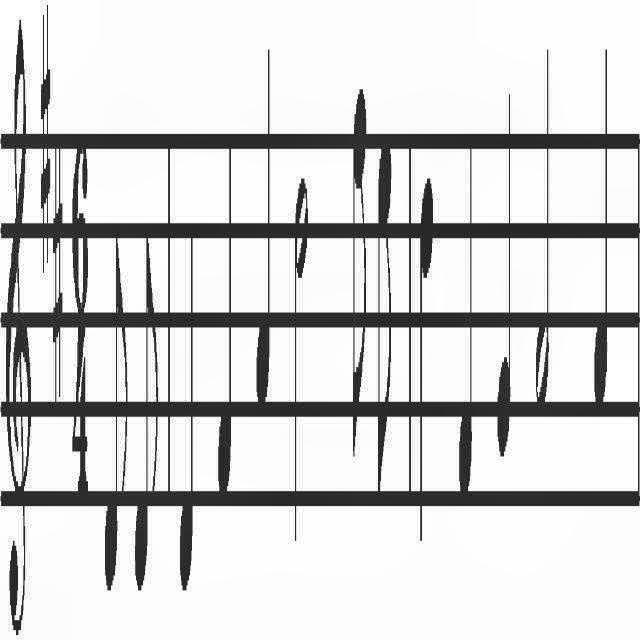Bass-clef: (5, 11, 32, 640)
Diez: (39, 1, 51, 288), (52, 146, 64, 408)
Eighth-note: (134, 234, 158, 604), (104, 228, 128, 592), (352, 72, 368, 466), (377, 130, 393, 518)
Half-note: (294, 170, 310, 560), (536, 38, 550, 420)
Quarter-note: (590, 28, 610, 410), (458, 127, 476, 513), (496, 69, 512, 483), (218, 127, 235, 513), (256, 41, 272, 422), (180, 224, 196, 596), (420, 173, 434, 554)
